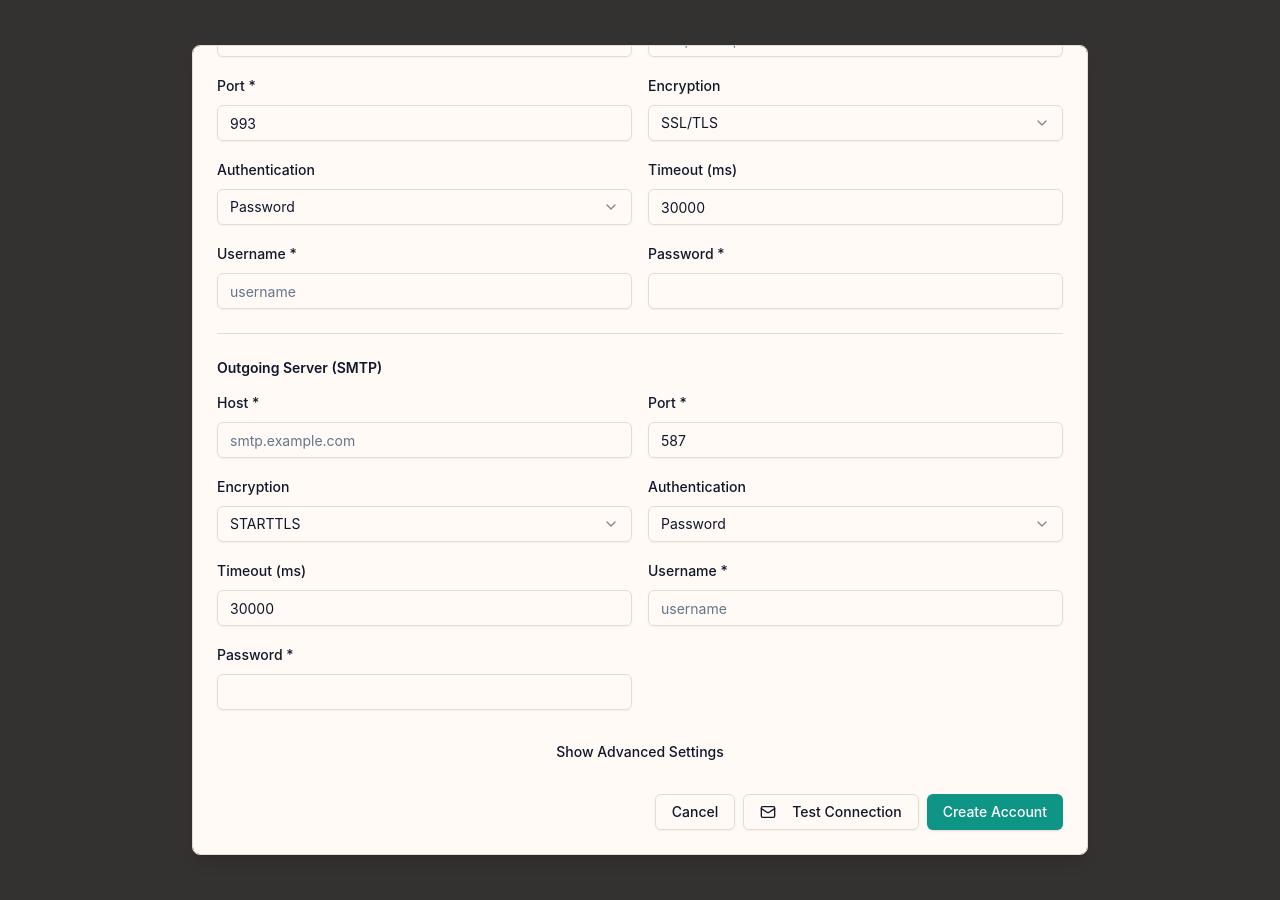
Test case: EmailAccountSettingsDialog › advanced settings › should toggle advanced settings visibility
(page scrolled)
What coordinates should you click on to do the following:
click the button "Show Advanced Settings"
I would click on:
 (640, 752)
Its box is [217,734,1063,770].
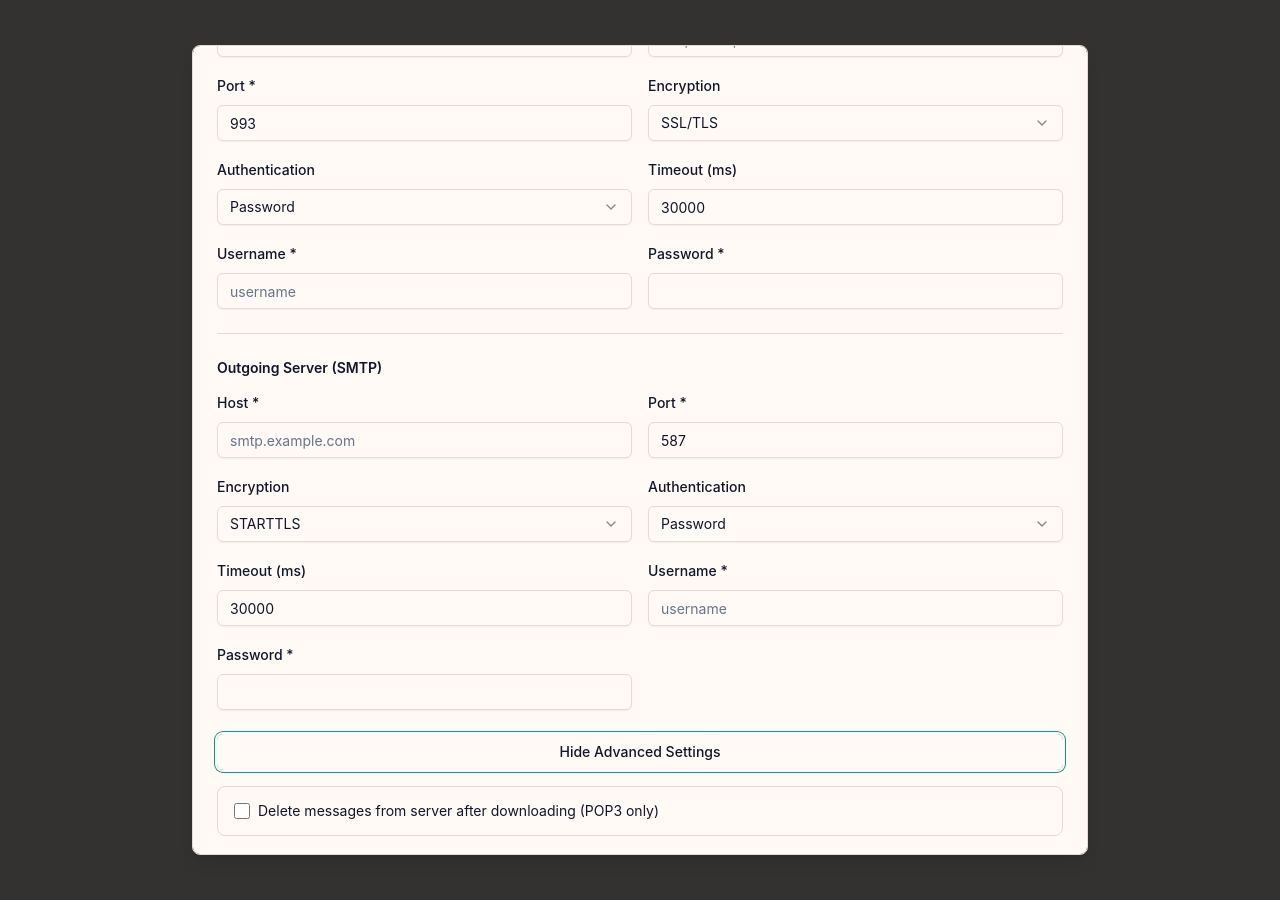
expect the checkbox labelled "Delete messages from server after downloading (POP3 only)" is shown: met, box [234,803,250,819]
